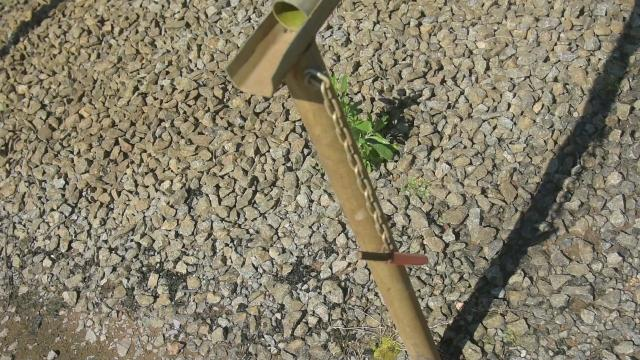MalezaMontesDelPlata: (327, 68, 407, 175)
MusgoMontesDelPlata: (369, 332, 404, 360)
